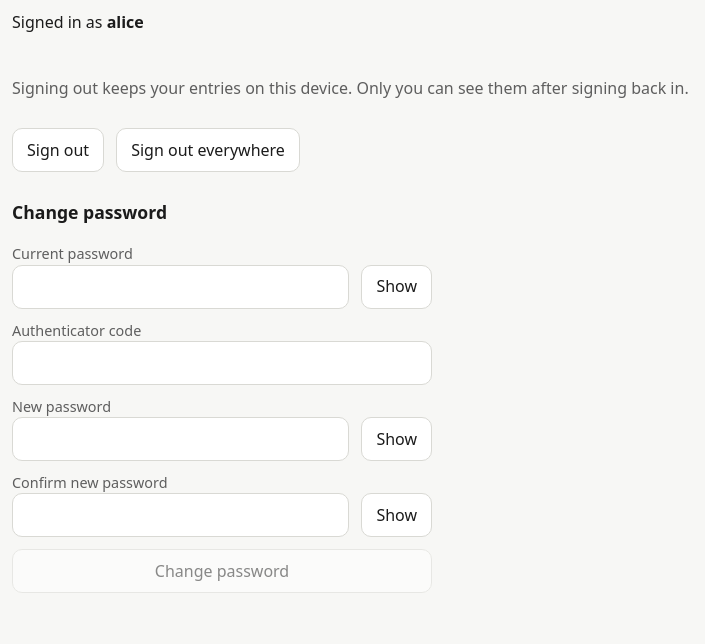
Test: AccountMenu › stays put and explains when signing out fails
Click the button "Sign out" at [58, 150], box [12,128,104,172]
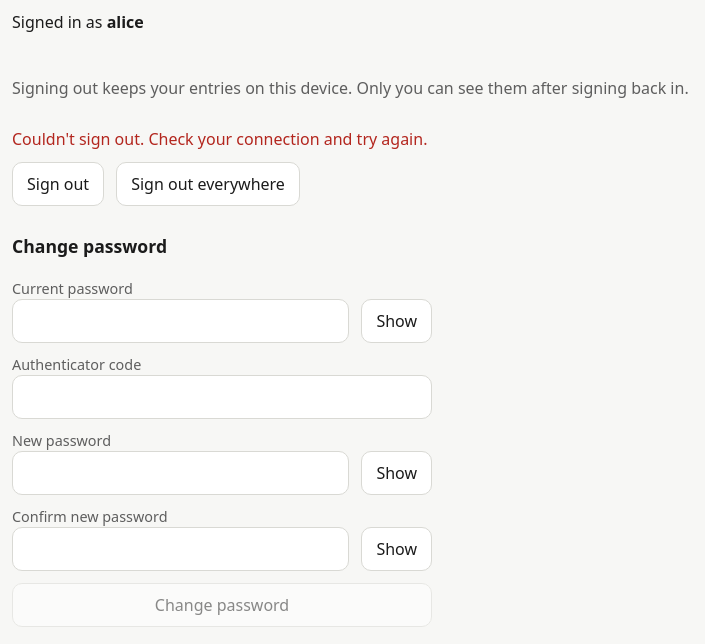
Now the message reads "Couldn't sign out. Check your connection and try again.", box [12,128,427,150]
